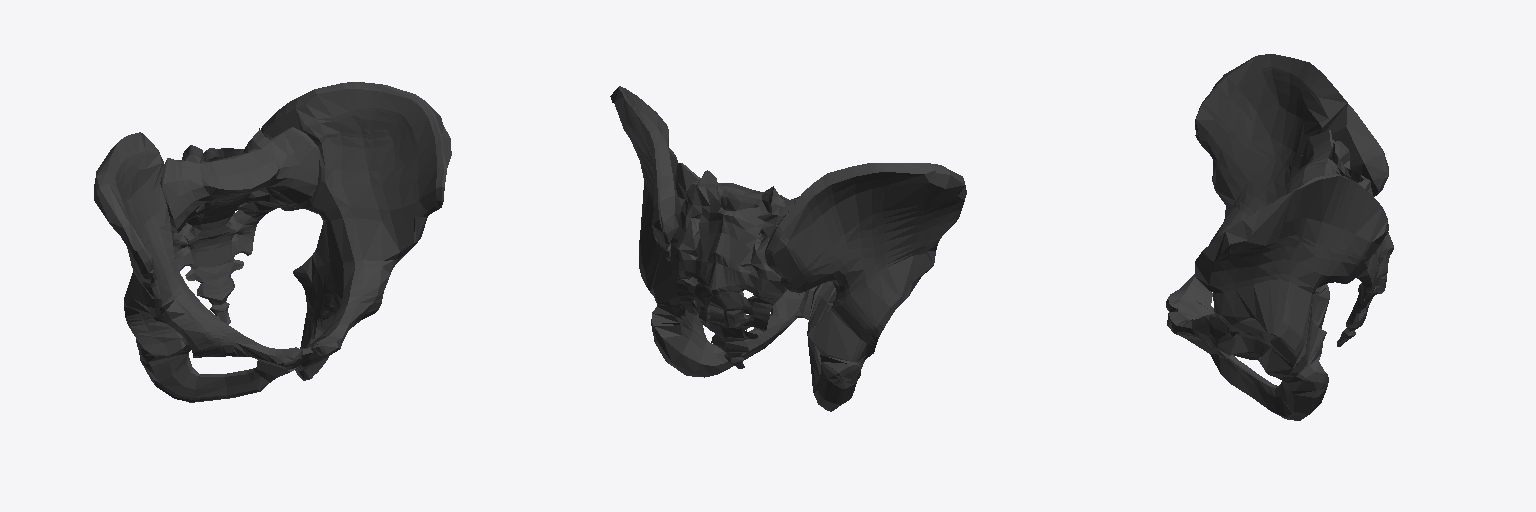
Rendered from Pelvis.obj.
The picture shows the model from 3 angles: view 1: azimuth 30°, elevation 25°; view 2: azimuth 150°, elevation 25°; view 3: azimuth 270°, elevation 25°; orthographic projection.
Size of the model in its own units: 0.2885 by 0.2149 by 0.1664.